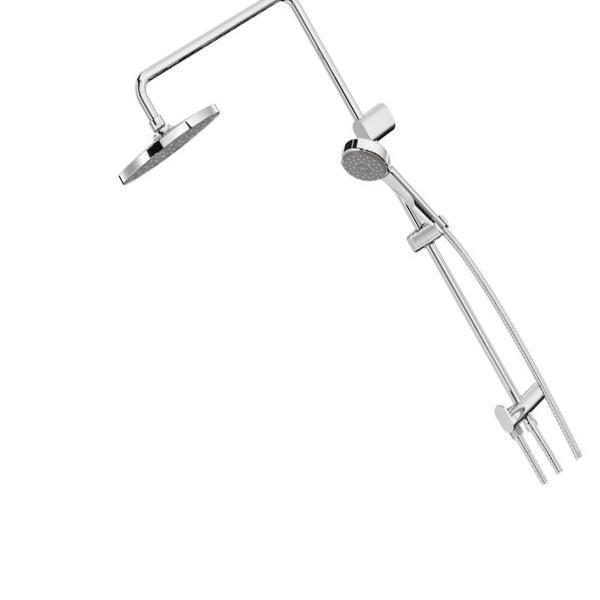Ducha: (77, 0, 585, 482)
